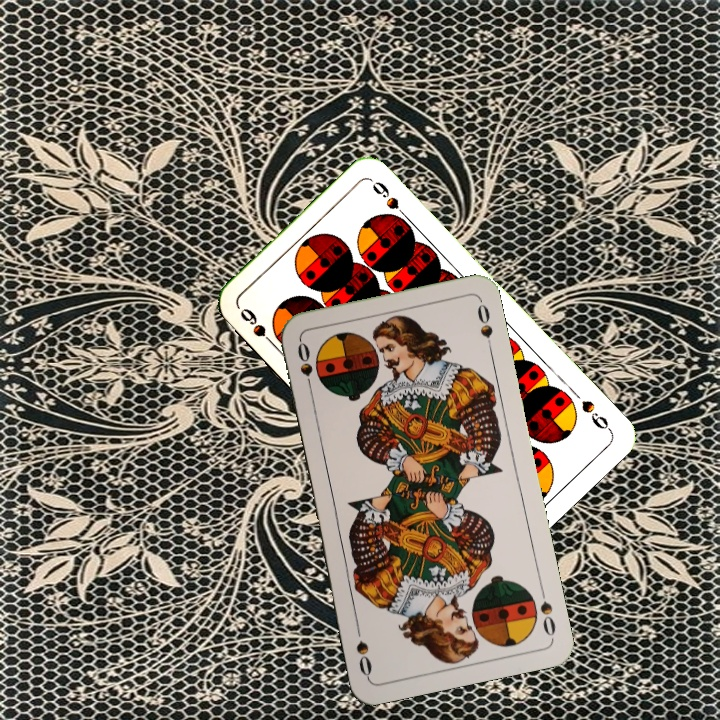S9: (236, 304, 280, 351), (577, 396, 614, 434)
SO: (293, 337, 316, 395), (535, 582, 558, 639)
